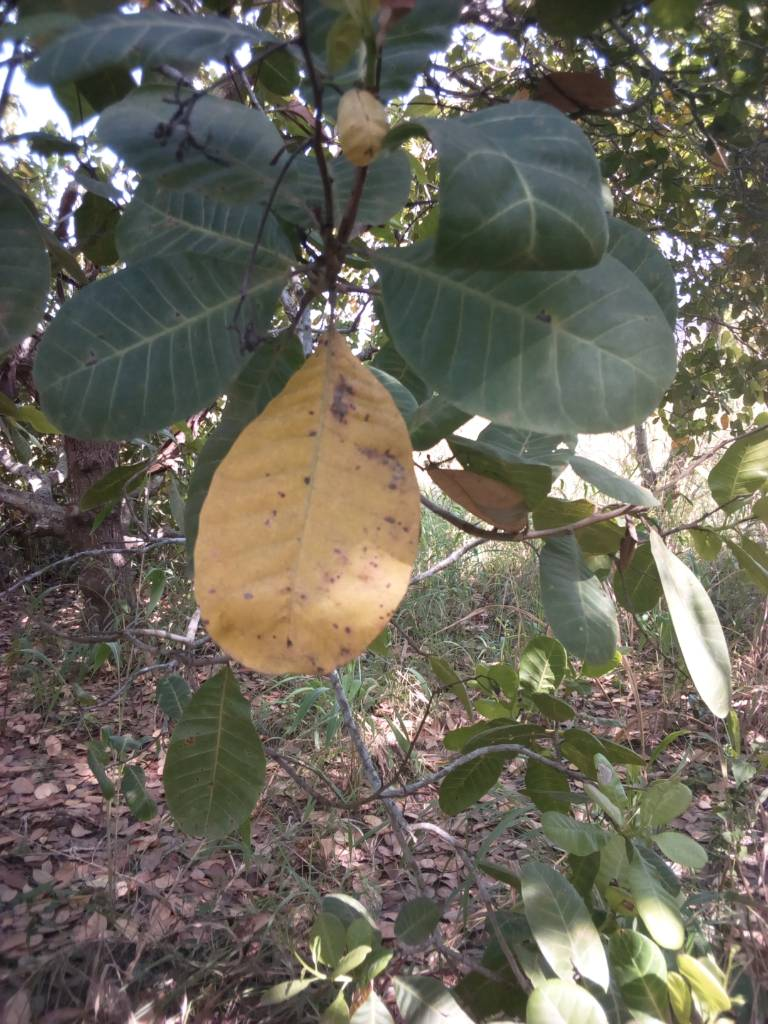Dessèchement des bourgeons: (222, 128, 310, 349), (140, 47, 257, 166)
